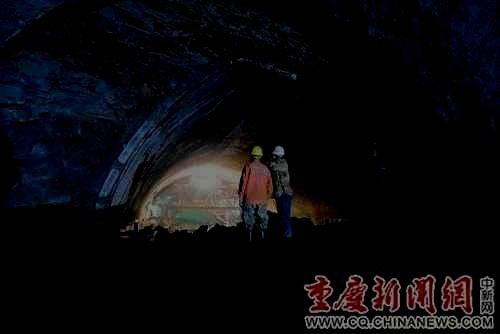helmet: (249, 146, 263, 162), (271, 145, 285, 161)
